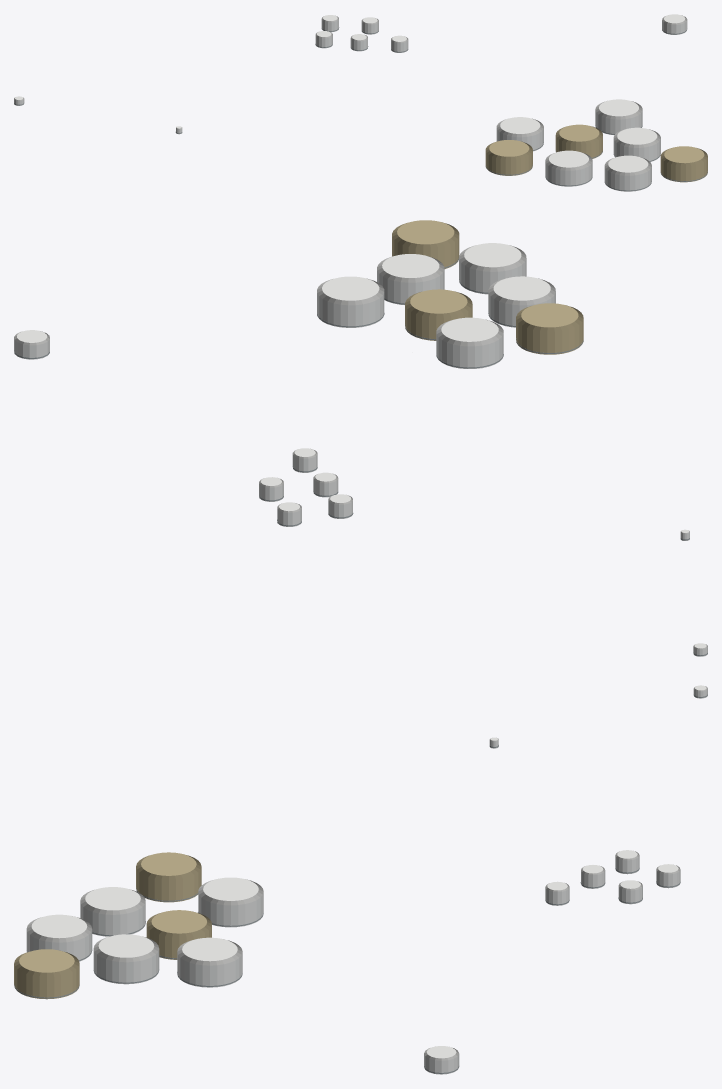
File: web_balashi_tanks.glb
3 renders of one model, top to bottom at view 1: azimuth 30°, elevation 25°; view 2: azimuth 150°, elevation 25°; view 3: azimuth 270°, elevation 25°, orthographic. The views are drawn at different scales.
Visible parts, largest first — view 1: web_balashi_tanks_lod0; view 2: web_balashi_tanks_lod0; view 3: web_balashi_tanks_lod0.
Boxes of the visible parts, bbox=[...] form: web_balashi_tanks_lod0: bbox=[14, 14, 707, 191]; web_balashi_tanks_lod0: bbox=[14, 220, 707, 656]; web_balashi_tanks_lod0: bbox=[14, 685, 707, 1074].
Size of what is drawn, in the model's own units: 509 by 20.08 by 383.
